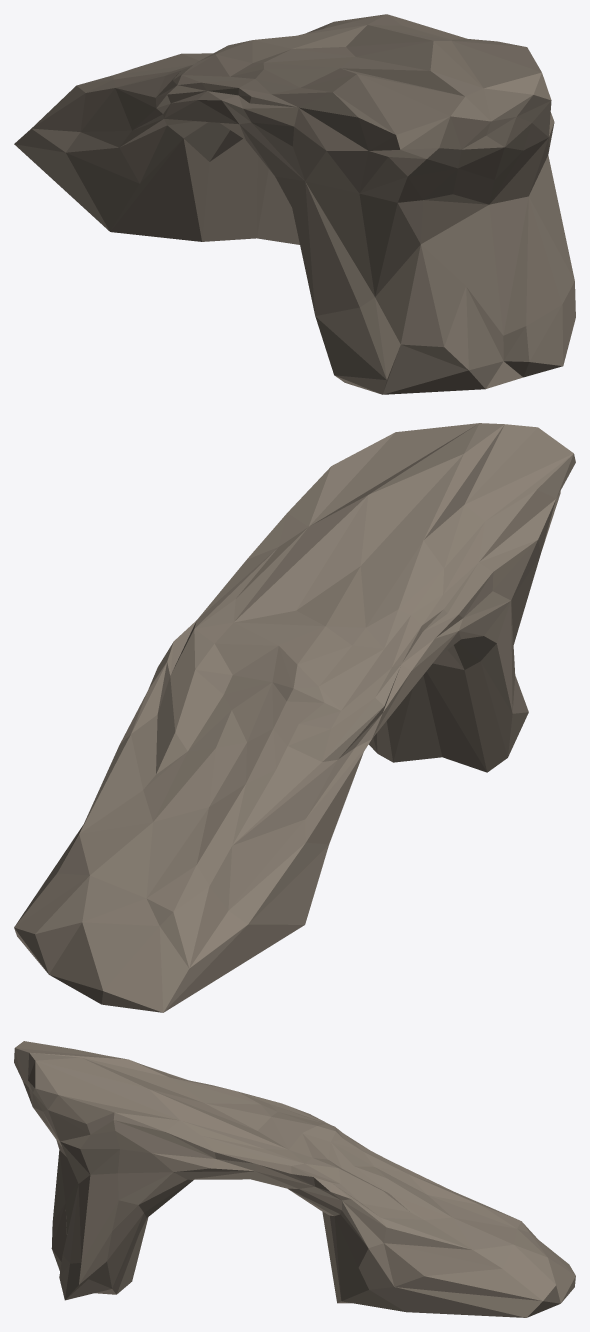
Rendered from SM_Env_Rock_Archway_01.glb.
3 views of the same model, one above another, from view 1: azimuth 30°, elevation 25°; view 2: azimuth 150°, elevation 25°; view 3: azimuth 270°, elevation 25° (orthographic). The views are drawn at different scales.
Visible parts, largest first — view 1: SM_Env_Rock_Archway_01; view 2: SM_Env_Rock_Archway_01; view 3: SM_Env_Rock_Archway_01.
Boxes of the visible parts, x1=… form: SM_Env_Rock_Archway_01: x1=14, y1=14, x2=575, y2=394; SM_Env_Rock_Archway_01: x1=14, y1=423, x2=575, y2=1012; SM_Env_Rock_Archway_01: x1=14, y1=1041, x2=575, y2=1317.
Bounding box in the file's own units: 4.76 × 6.19 × 14.01.
1 material, 1 textured.
